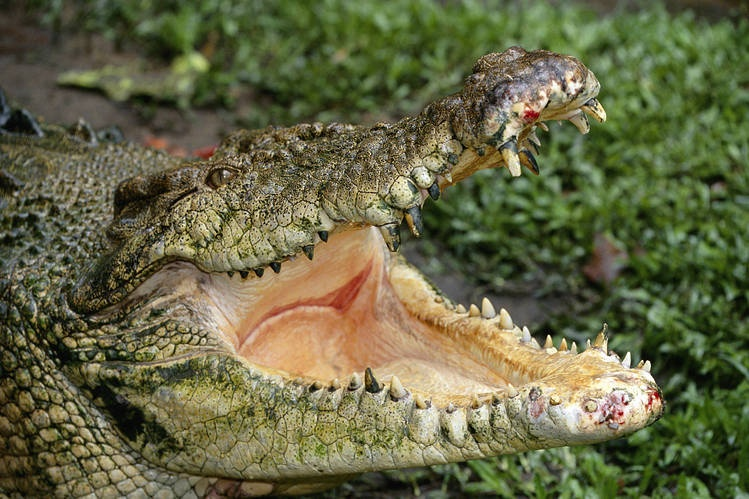crocodile: (1, 41, 670, 498)
